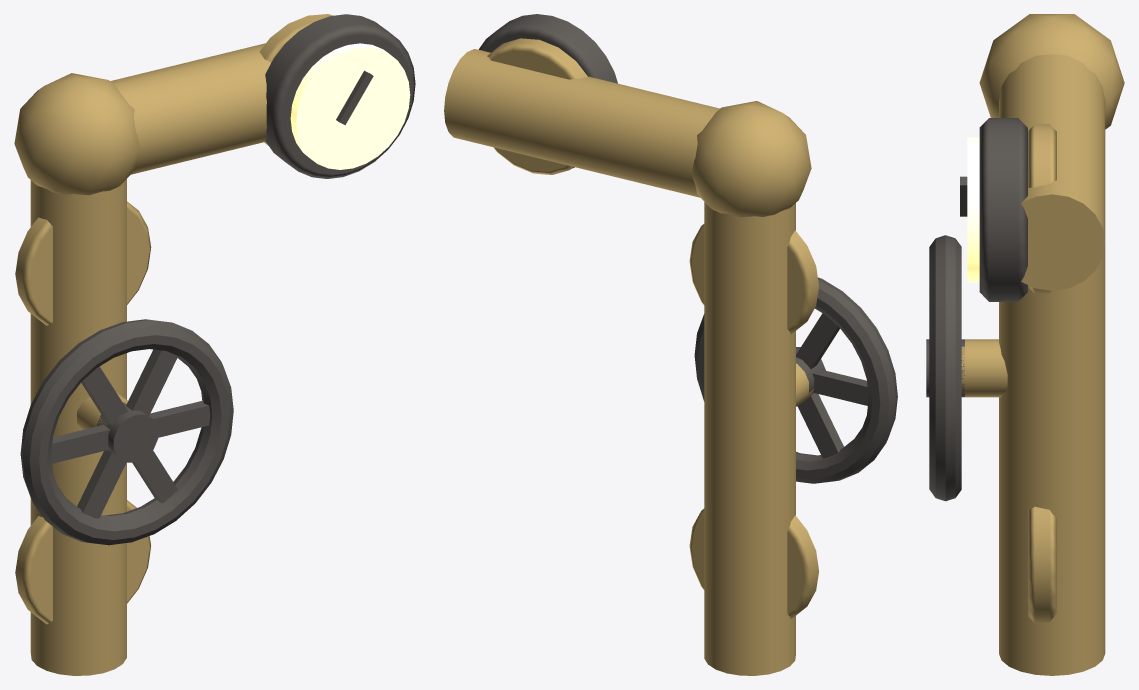
The model's file is pipes.glb.
3 renders of one model, left to right at view 1: azimuth 30°, elevation 25°; view 2: azimuth 150°, elevation 25°; view 3: azimuth 270°, elevation 25°, orthographic. The views are drawn at different scales.
Parts seen in each view (by area): view 1: Pipes; view 2: Pipes; view 3: Pipes.
Part boxes in pixels (x1=…): Pipes: x1=14, y1=14, x2=415, y2=675; Pipes: x1=444, y1=14, x2=897, y2=675; Pipes: x1=926, y1=14, x2=1124, y2=675.
Size of the model in its own units: 1.09 by 1.49 by 0.41.
